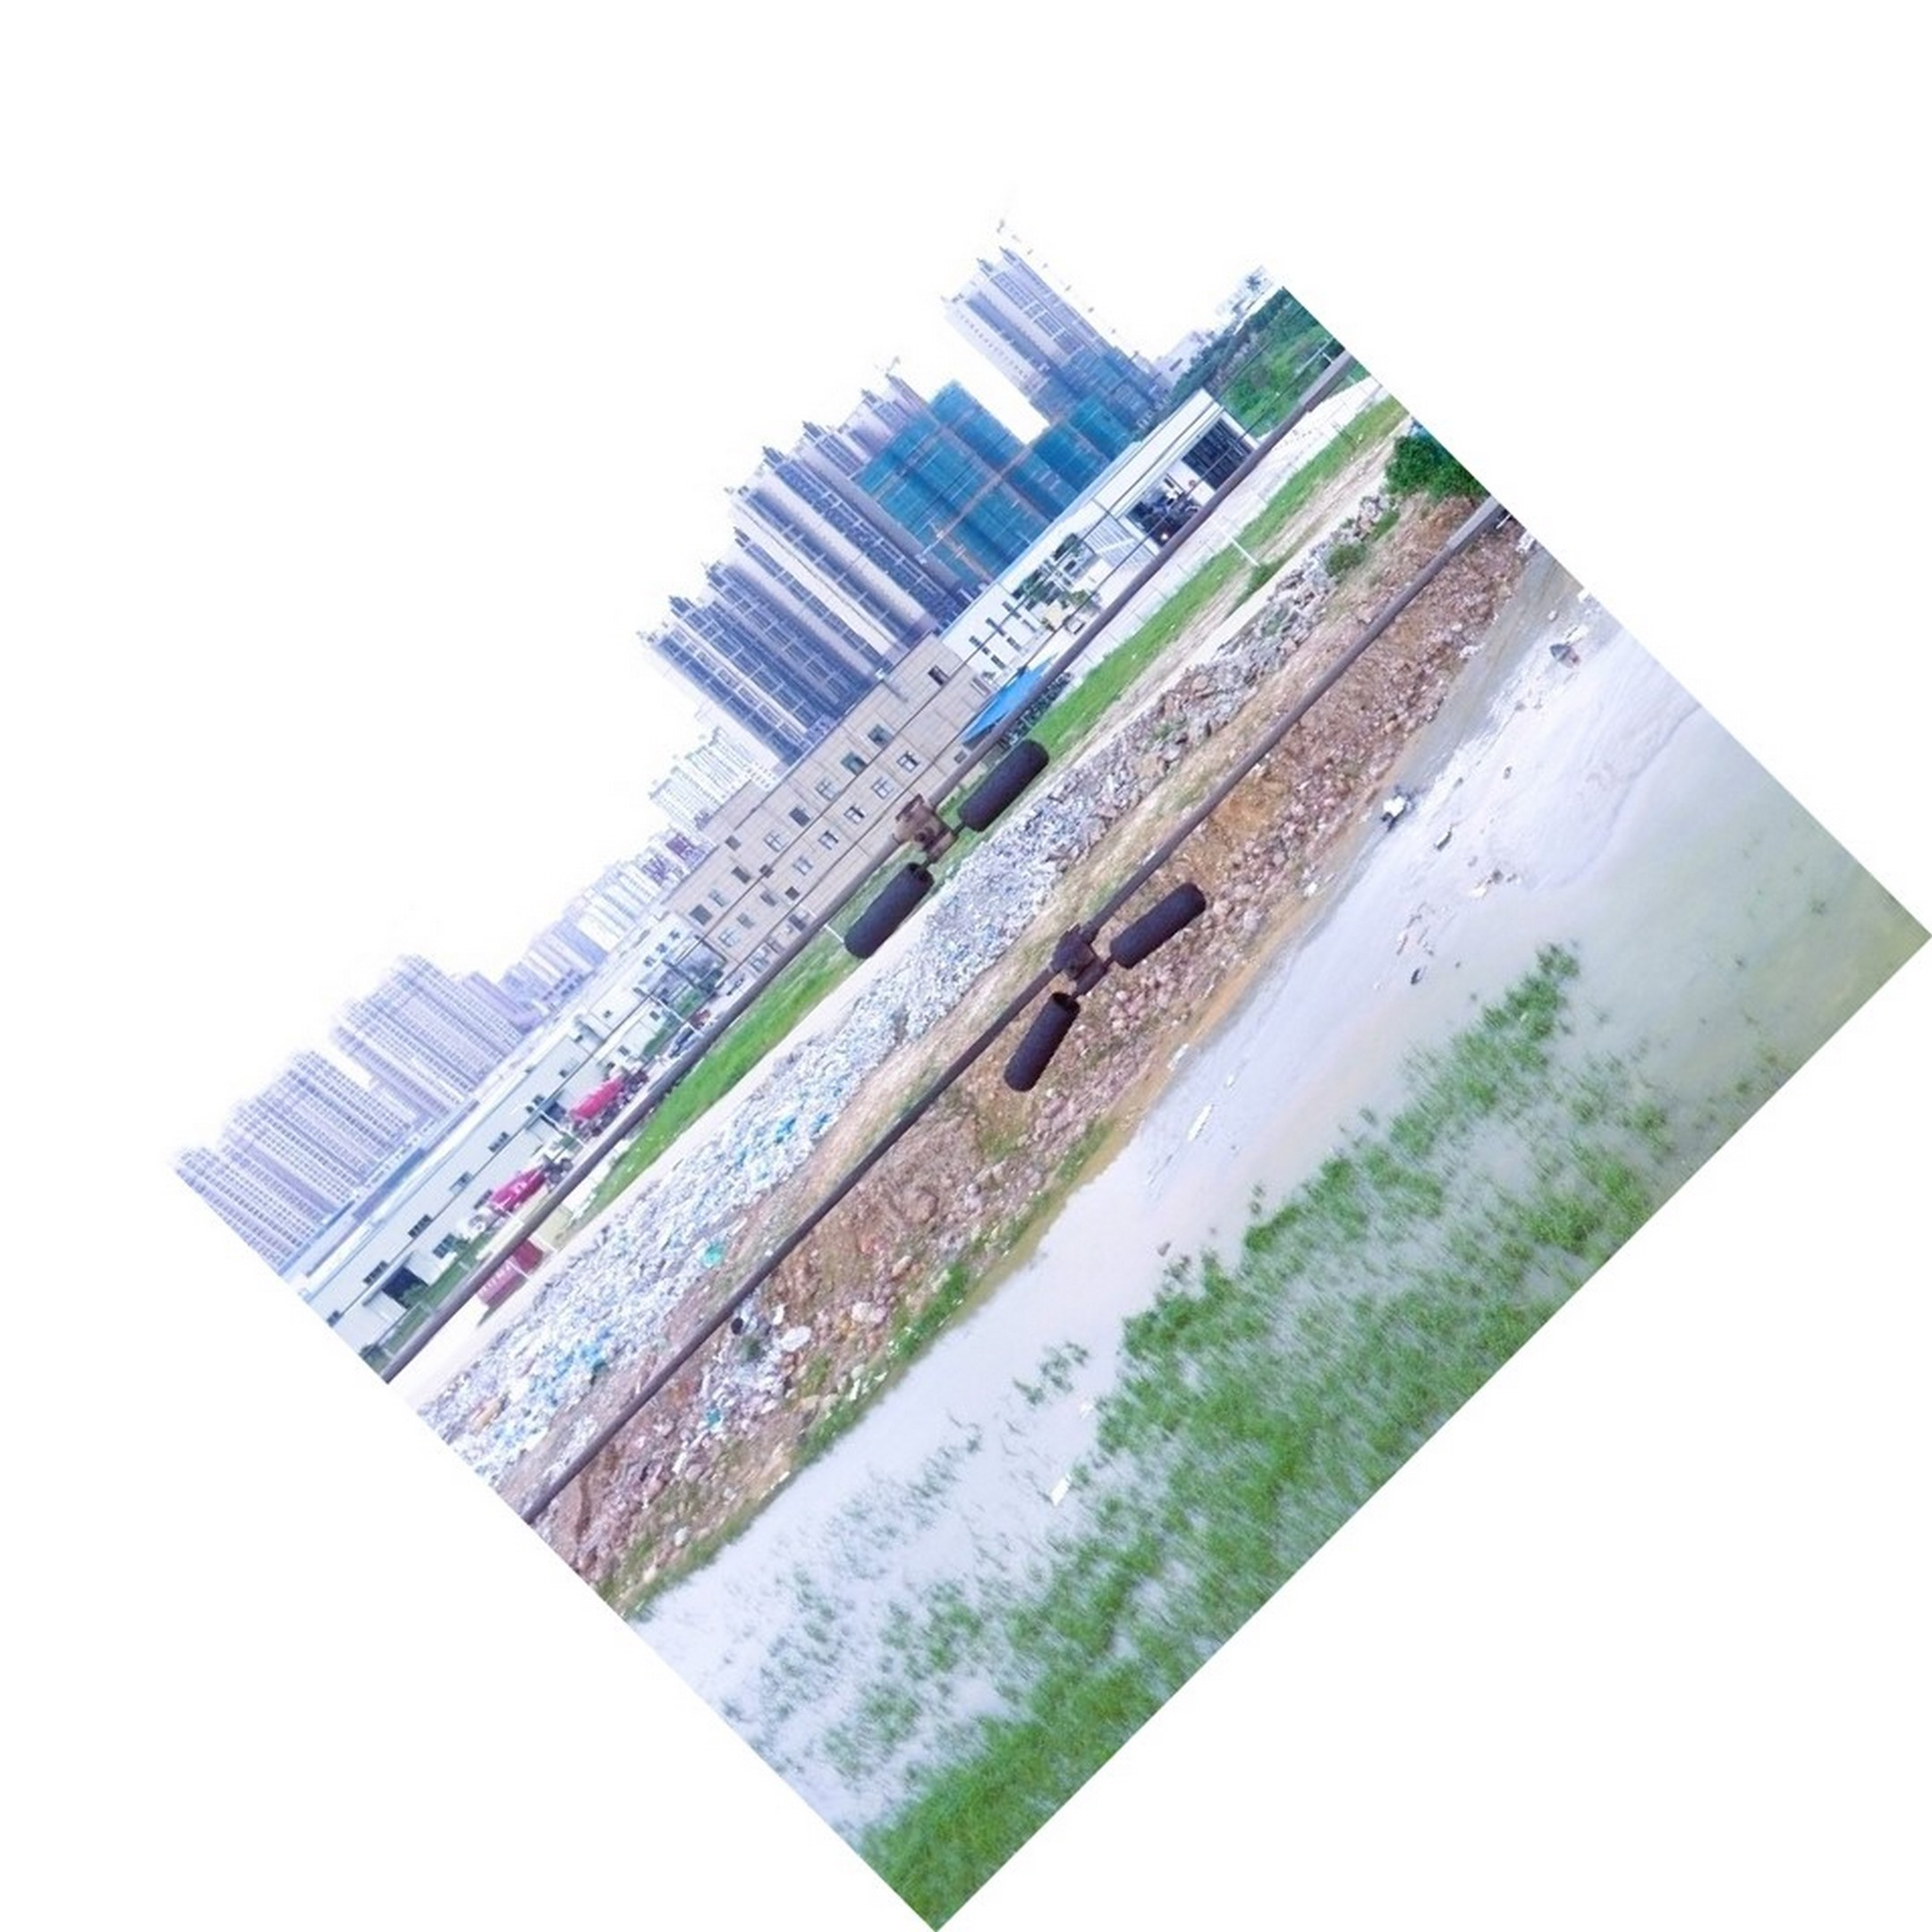Shockproof hammer: (978, 862, 1233, 1125), (819, 717, 1053, 961)
